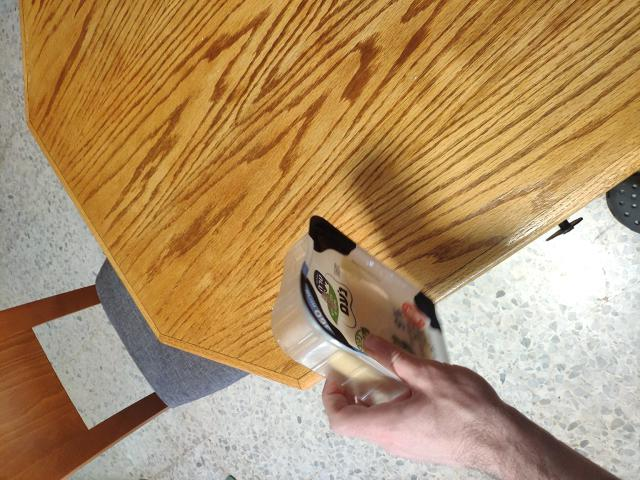cheese: (254, 224, 502, 391)
